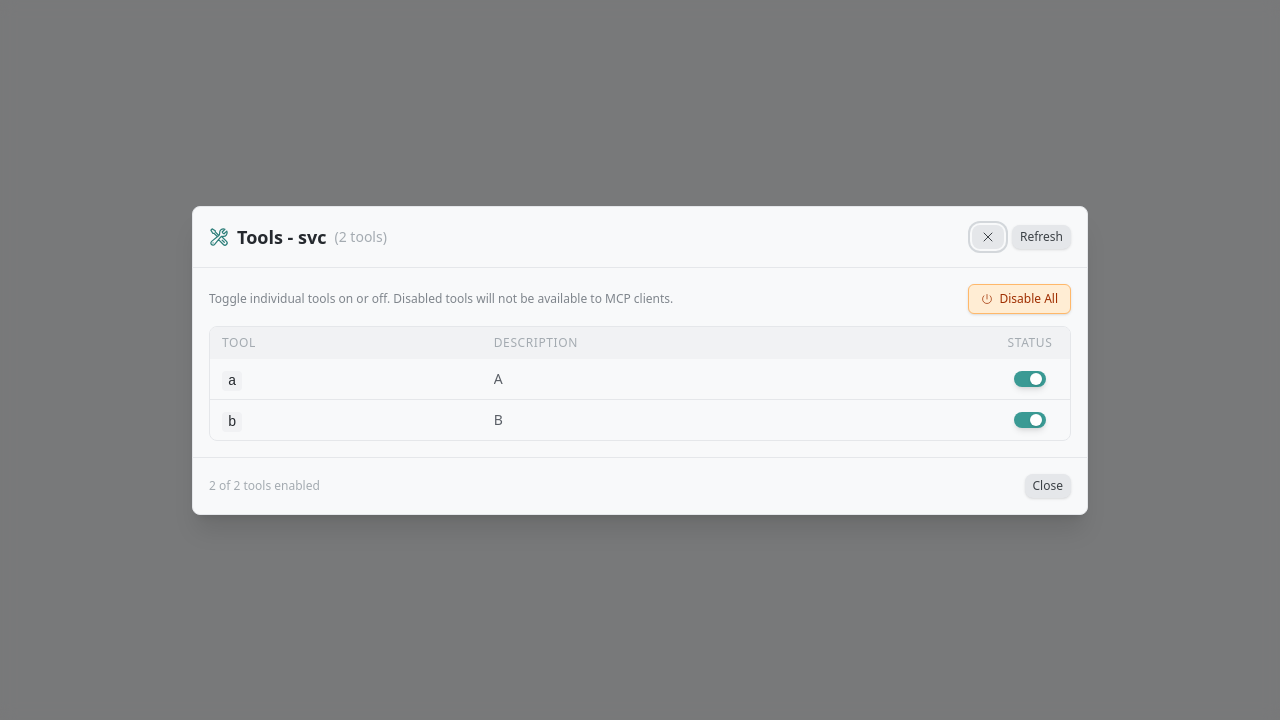
Test: ToolsModal › shows error and reverts state when toggle fails
expect the dialog "Tools - svc" is shown: met, box [192,206,1088,514]
# Click first toggle
What coordinates should you click on to do the following:
click the 1st button named "toggle switch"
I would click on:
 (1030, 378)
Its box is [1014,370,1046,386].
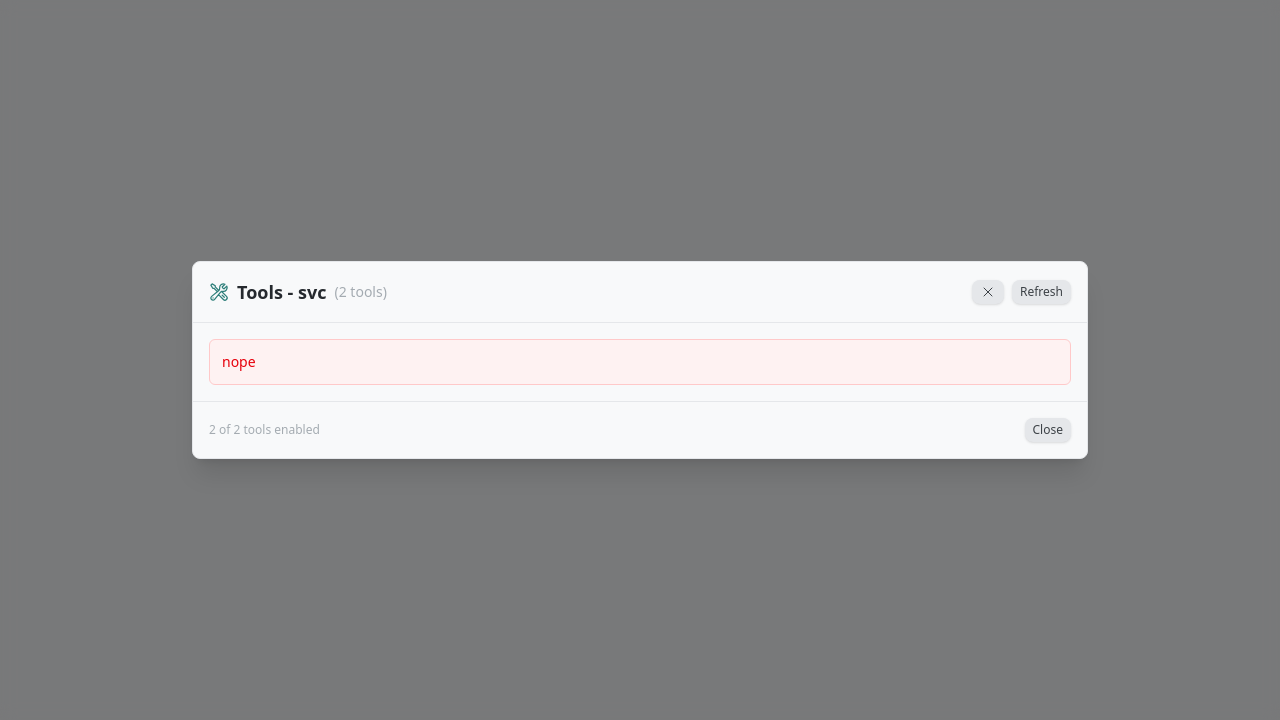
expect the text "nope" is shown: met, box [222,352,256,371]
